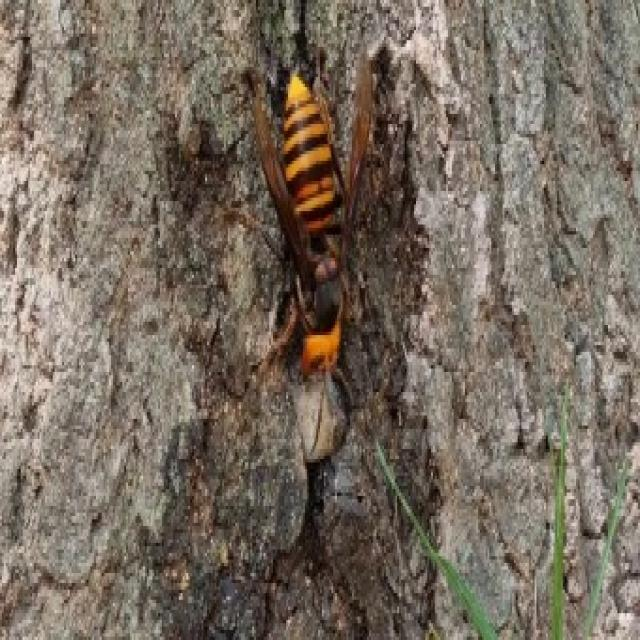Wasp: (235, 30, 388, 388)
